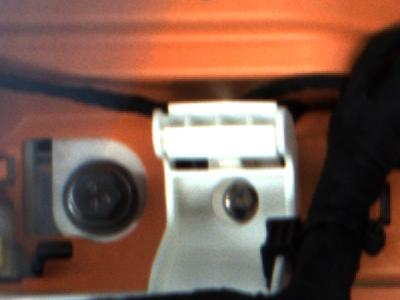nut_b: (61, 162, 142, 235)
